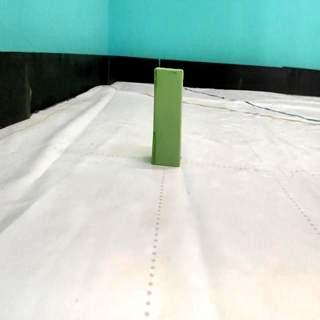greenbox: (150, 66, 184, 166)
